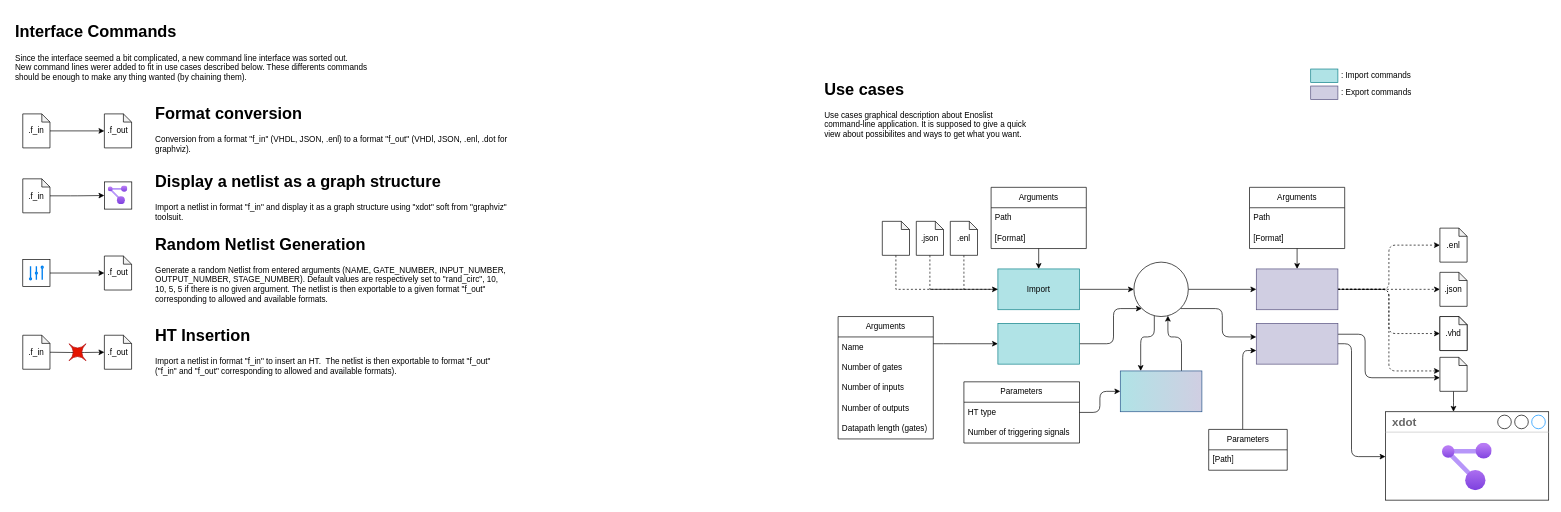
Some shapes in this 1561 by 512 pixel diagram are drawn without their labels. The shapes that lost their labels are listed below. From the top down, each one's centre as x and y in pixels, then its label:
point 896,238: .vhdl
point 1160,289: Netlist
point 1297,289: Export
point 1038,343: Random Netlist Generation
point 1297,343: Show
point 1161,391: HT insertion
point 1453,374: .dot
